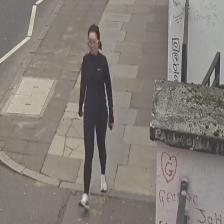person: (78, 24, 113, 210)
